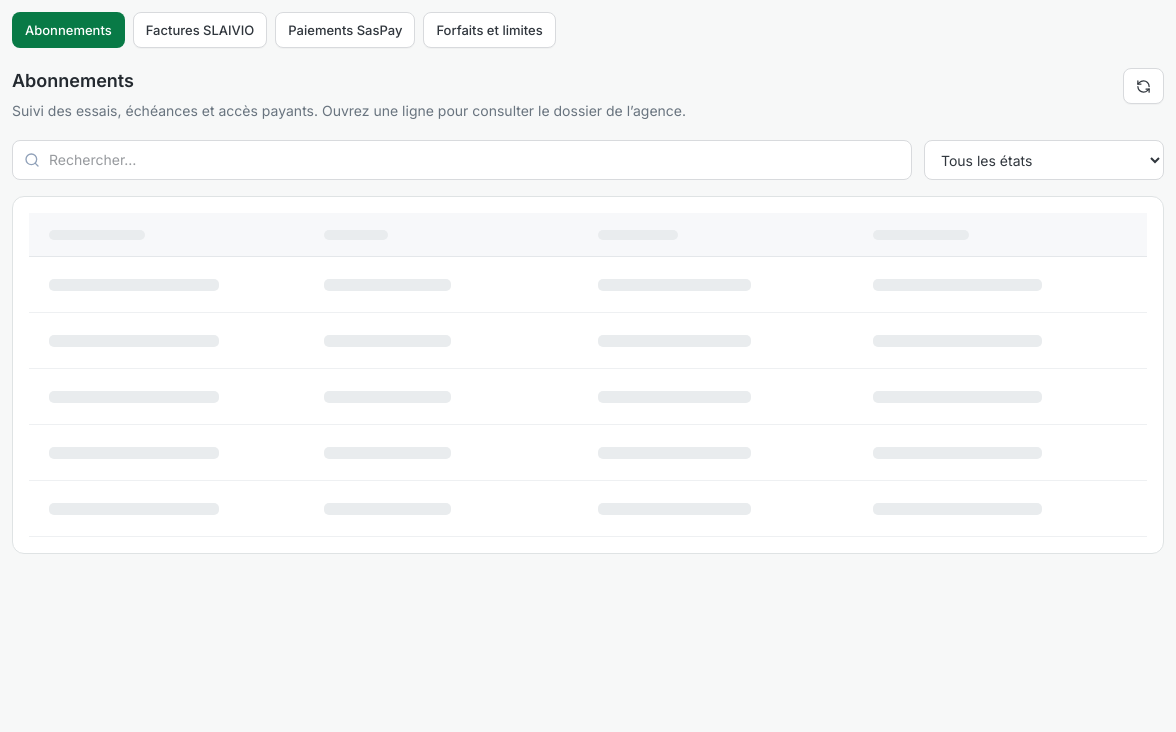
Test: renders actual catalog limits without inventing an editable price control
Click the button "Forfaits et limites" at (490, 30), box [423, 12, 556, 48]
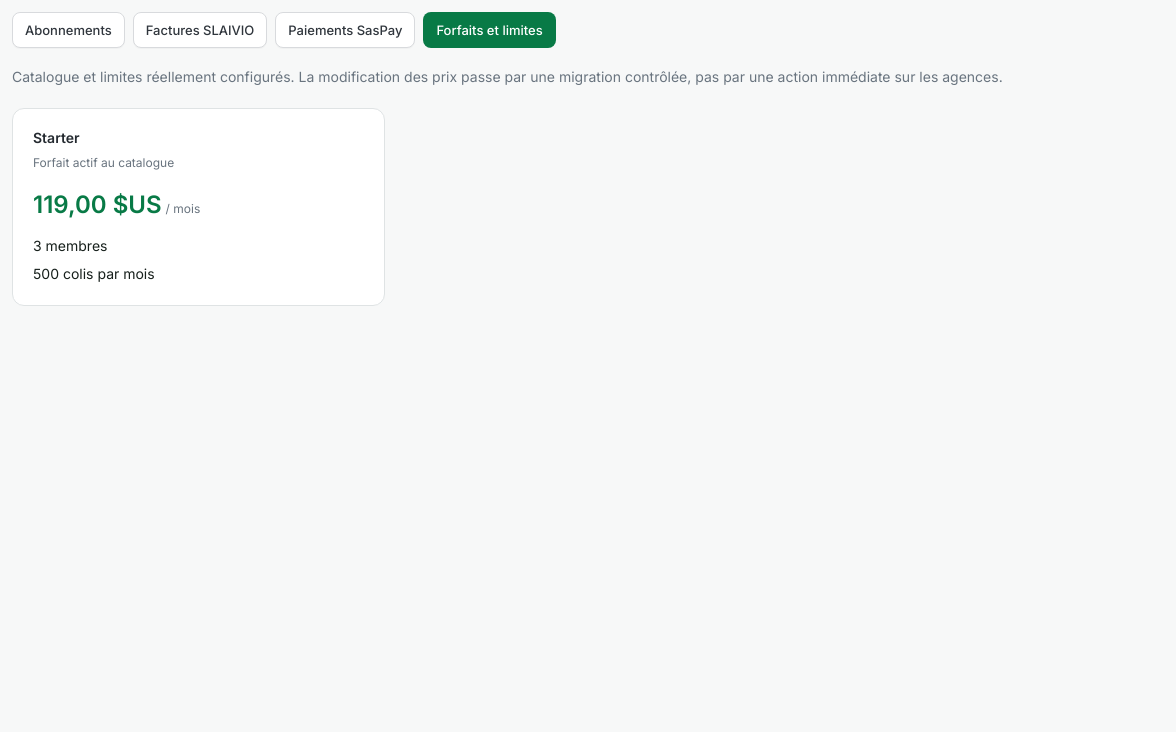
Check: the list item "500 colis par mois" is shown, box [33, 266, 155, 283]
Check: the list item "3 membres" is shown, box [33, 238, 108, 255]
